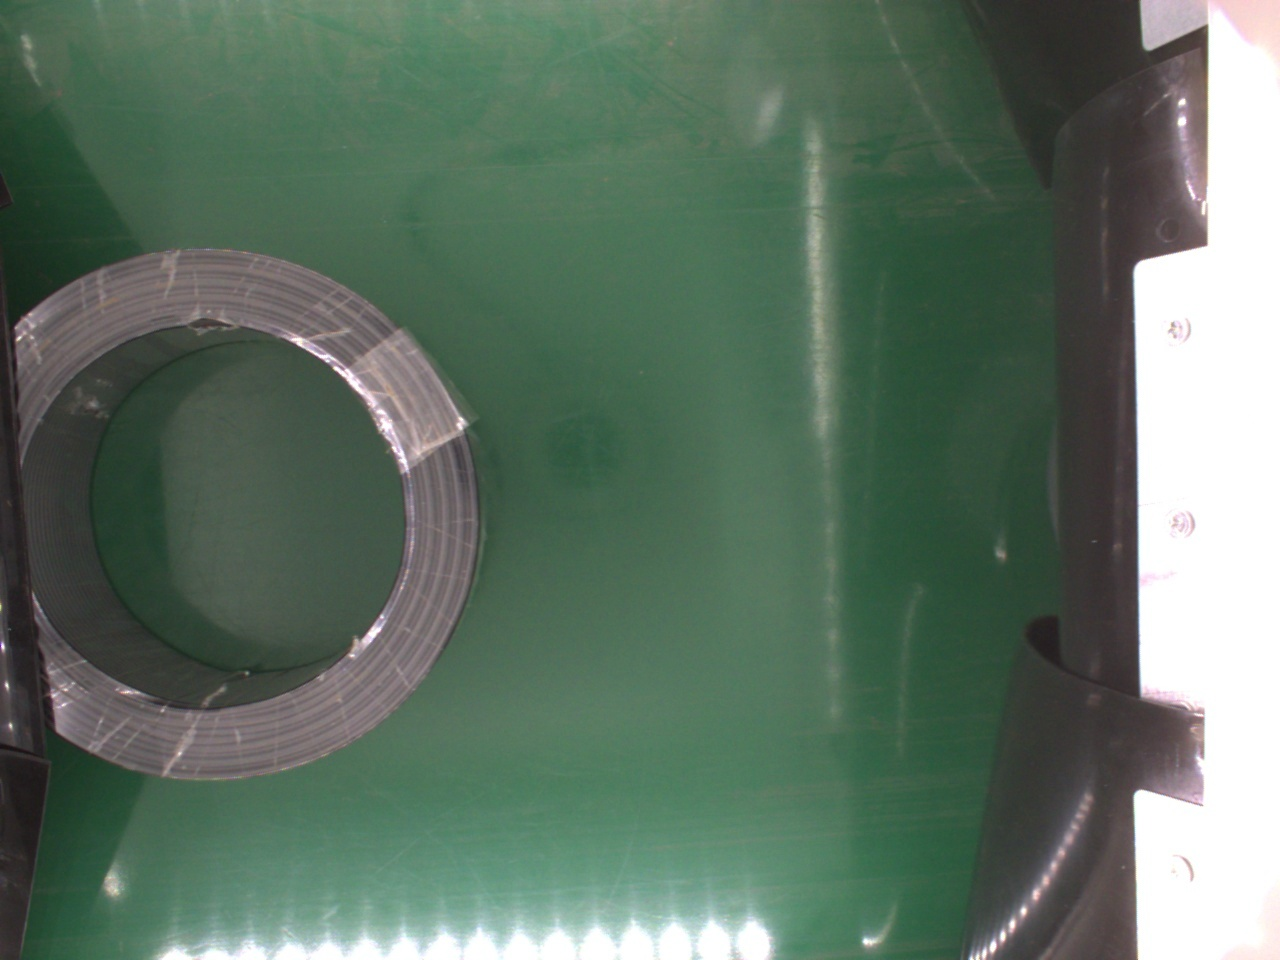black: (21, 250, 487, 784)
